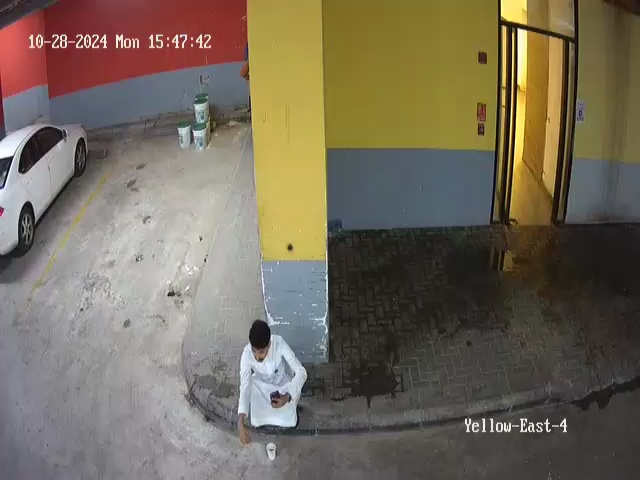male: (237, 320, 308, 447)
